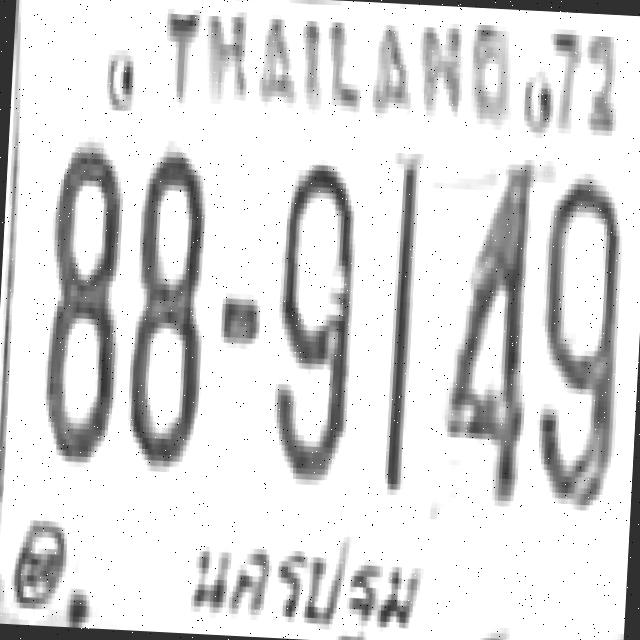1: (380, 150, 422, 492)
4: (436, 156, 536, 502)
8: (122, 145, 212, 468), (42, 138, 128, 460)
9: (531, 169, 624, 504), (267, 160, 360, 484)
NakhonPathom: (167, 496, 445, 640)
